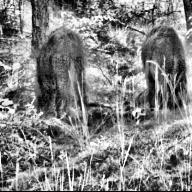boar: (135, 14, 192, 132), (35, 19, 93, 115)
